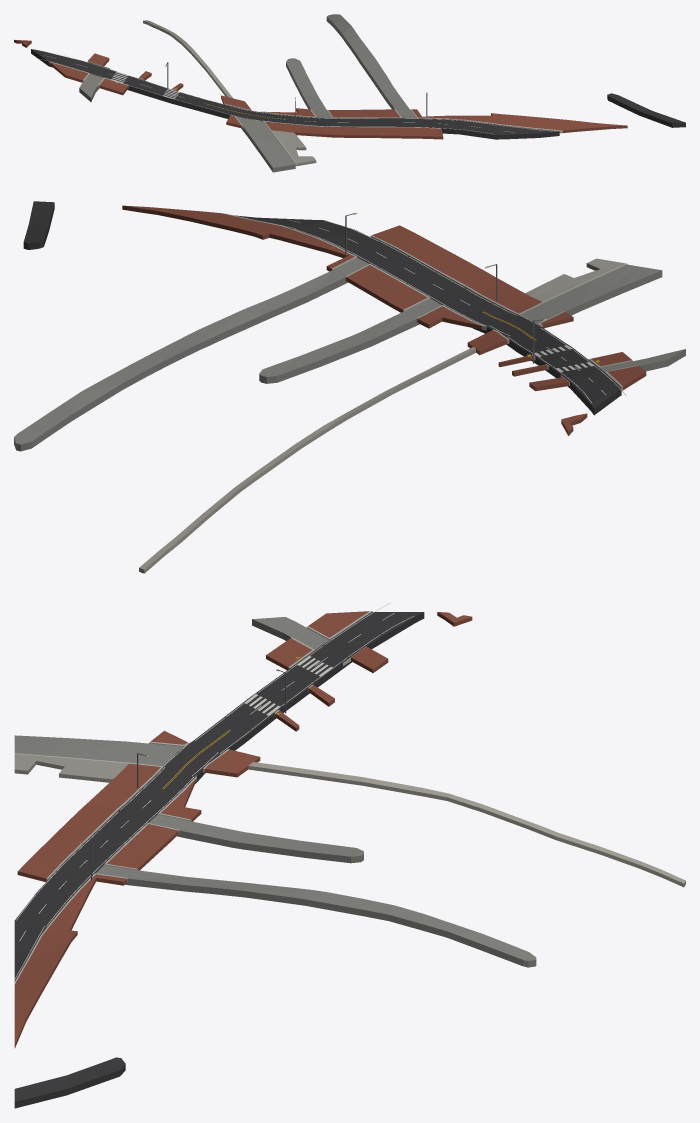
3 renders of one model, top to bottom at view 1: azimuth 30°, elevation 25°; view 2: azimuth 150°, elevation 25°; view 3: azimuth 270°, elevation 25°, orthographic. The views are drawn at different scales.
Bounding box in the file's own units: 145 × 26.61 × 113.
